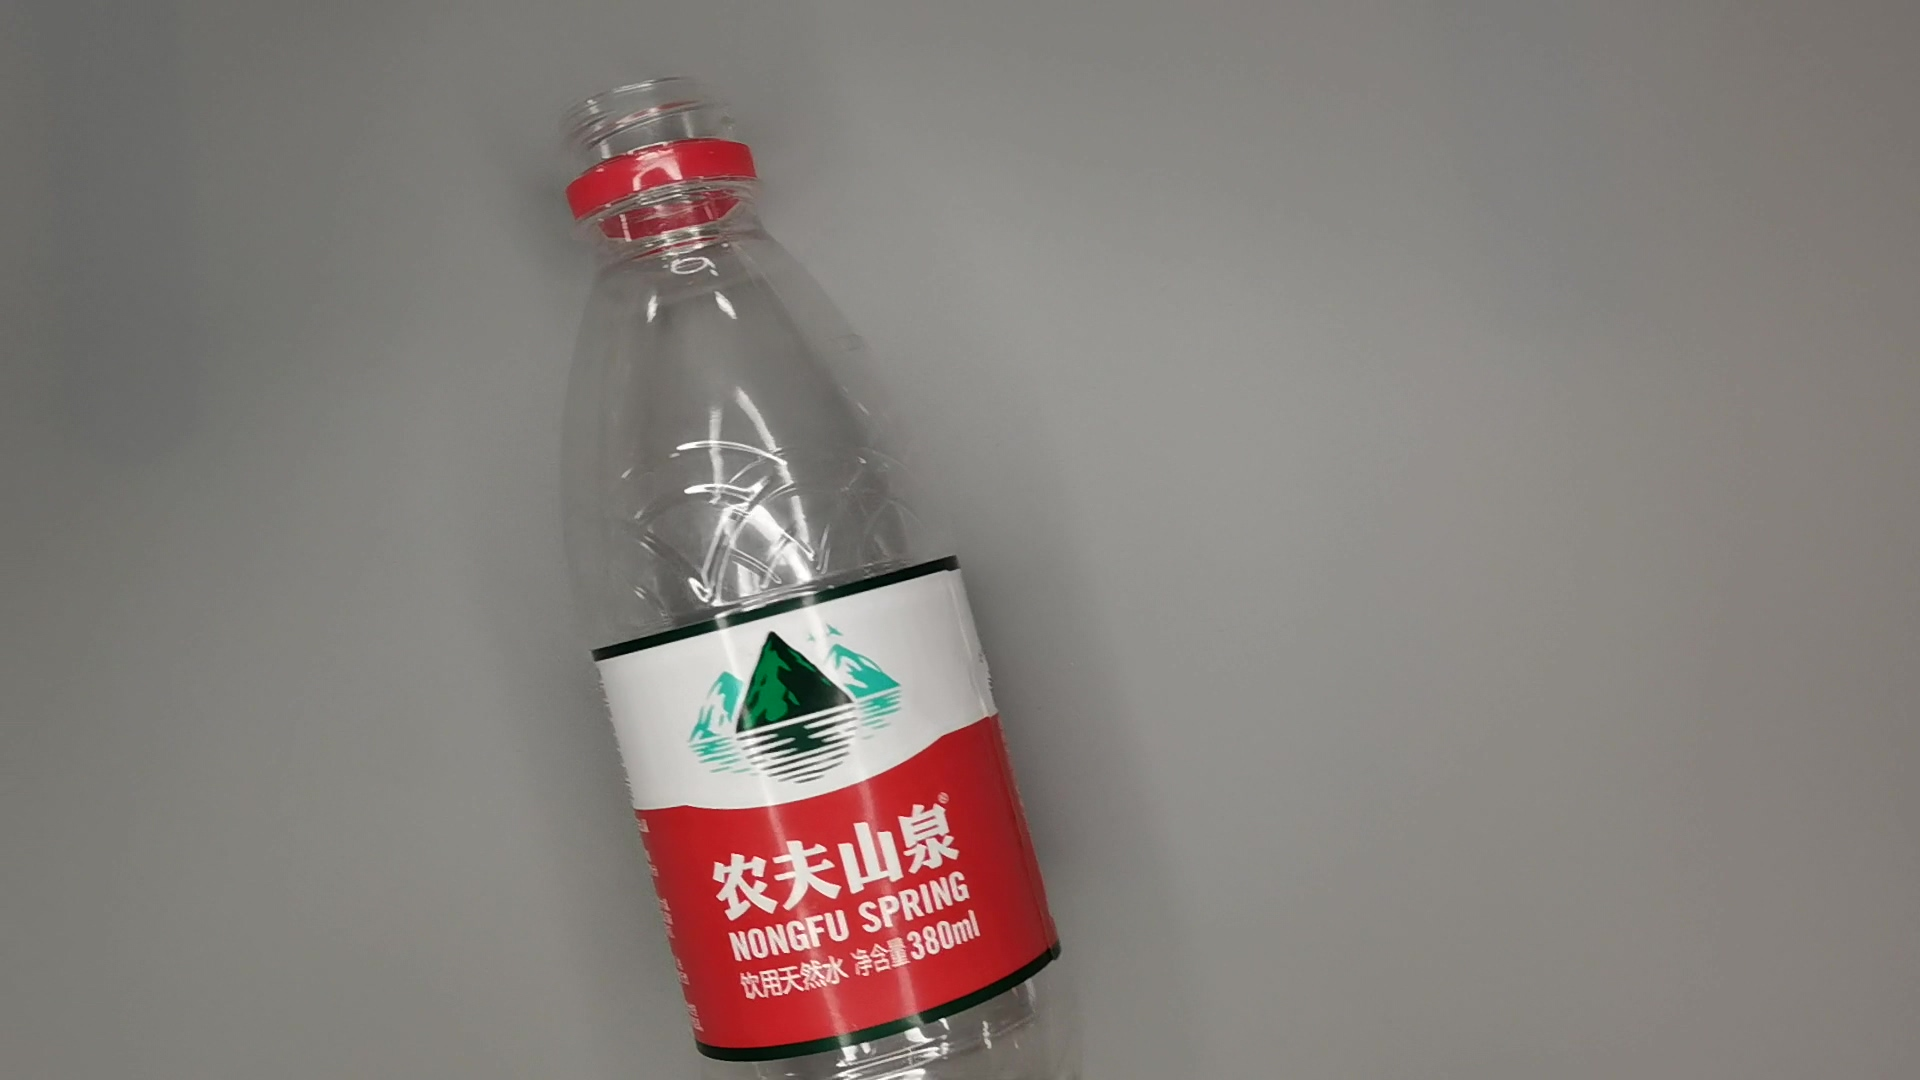bottle: (541, 76, 1120, 1080)
